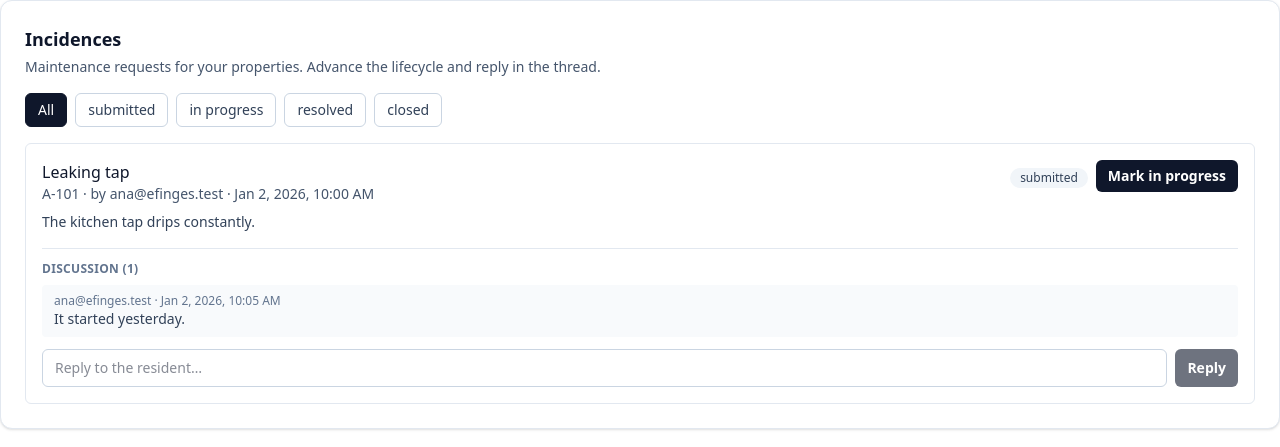
Test case: ManagerIncidencesSection › filters the list by lifecycle stage
Expected: the list item with test id "incidence-1" is shown, [25,143,1255,404]
Click the button "resolved" at (325, 110), box [284,93,366,127]
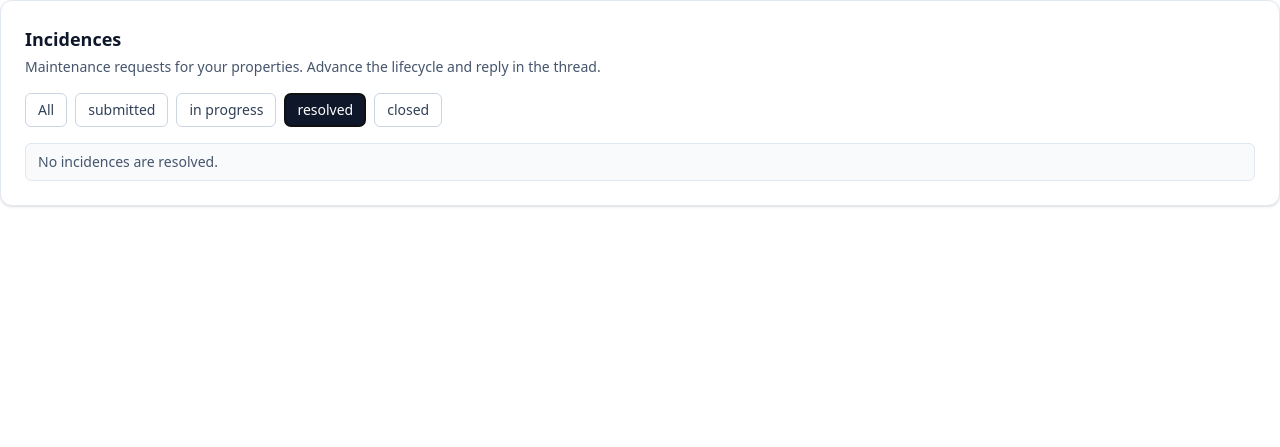
Now the text "No incidences are resolved." is shown, box [25,143,1255,181]
